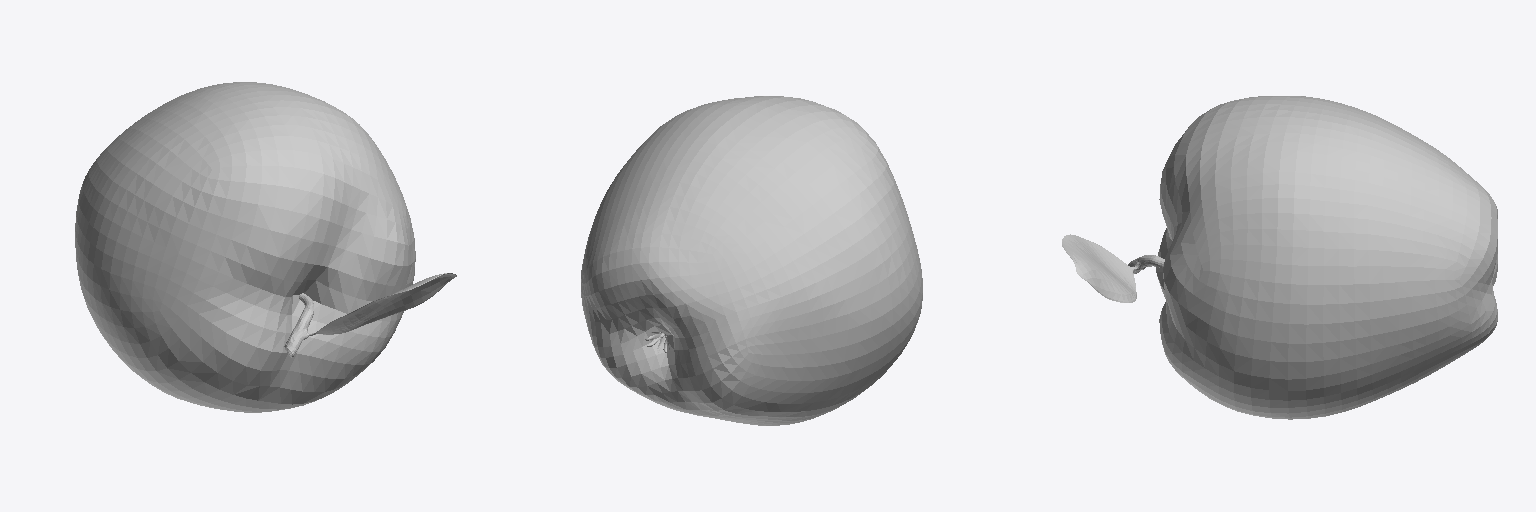
The model's file is manzana.obj.
The picture shows the model from 3 angles: view 1: azimuth 30°, elevation 25°; view 2: azimuth 150°, elevation 25°; view 3: azimuth 270°, elevation 25°; orthographic projection.
Bounding box in the file's own units: 29.03 × 28.23 × 37.98.